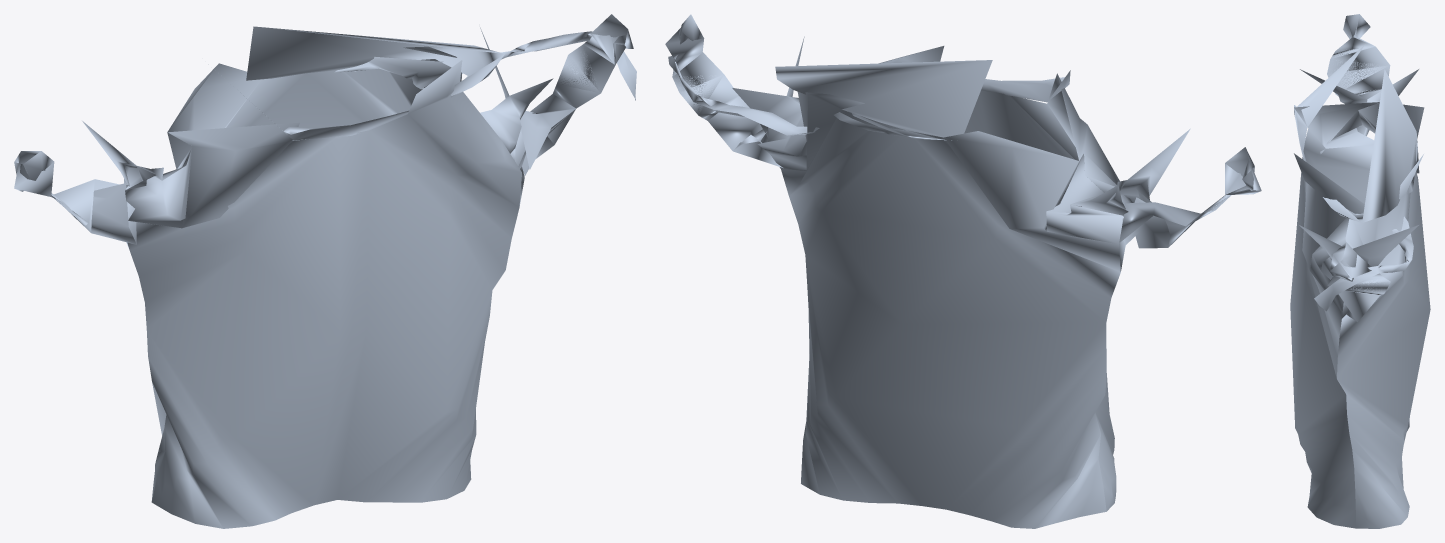
Rendered from frame_010.glb.
3 renders of one model, left to right at view 1: azimuth 30°, elevation 25°; view 2: azimuth 150°, elevation 25°; view 3: azimuth 270°, elevation 25°, orthographic. The views are drawn at different scales.
Parts seen in each view (by area): view 1: panel.front, panel.back, panel.neck_band, panel.sleeve.right, panel.sleeve.left; view 2: panel.back, panel.neck_band, panel.front, panel.sleeve.right, panel.sleeve.left; view 3: panel.front, panel.back, panel.neck_band, panel.sleeve.left, panel.sleeve.right.
Part boxes in pixels (x1,y1,x2,y2): panel.front: (125,60,553,528); panel.back: (82,27,524,501); panel.neck_band: (208,26,636,140); panel.sleeve.right: (515,14,633,175); panel.sleeve.left: (14,151,136,244); panel.back: (732,88,1128,528); panel.neck_band: (668,55,1070,140); panel.front: (786,36,1190,511); panel.sleeve.right: (665,14,782,167); panel.sleeve.left: (1119,147,1261,248); panel.front: (1290,69,1379,528); panel.back: (1337,69,1430,528); panel.neck_band: (1294,44,1418,311); panel.sleeve.left: (1327,14,1390,139); panel.sleeve.right: (1327,242,1390,321).
Size of the model in its own units: 1.08 by 0.8032 by 0.2657.
